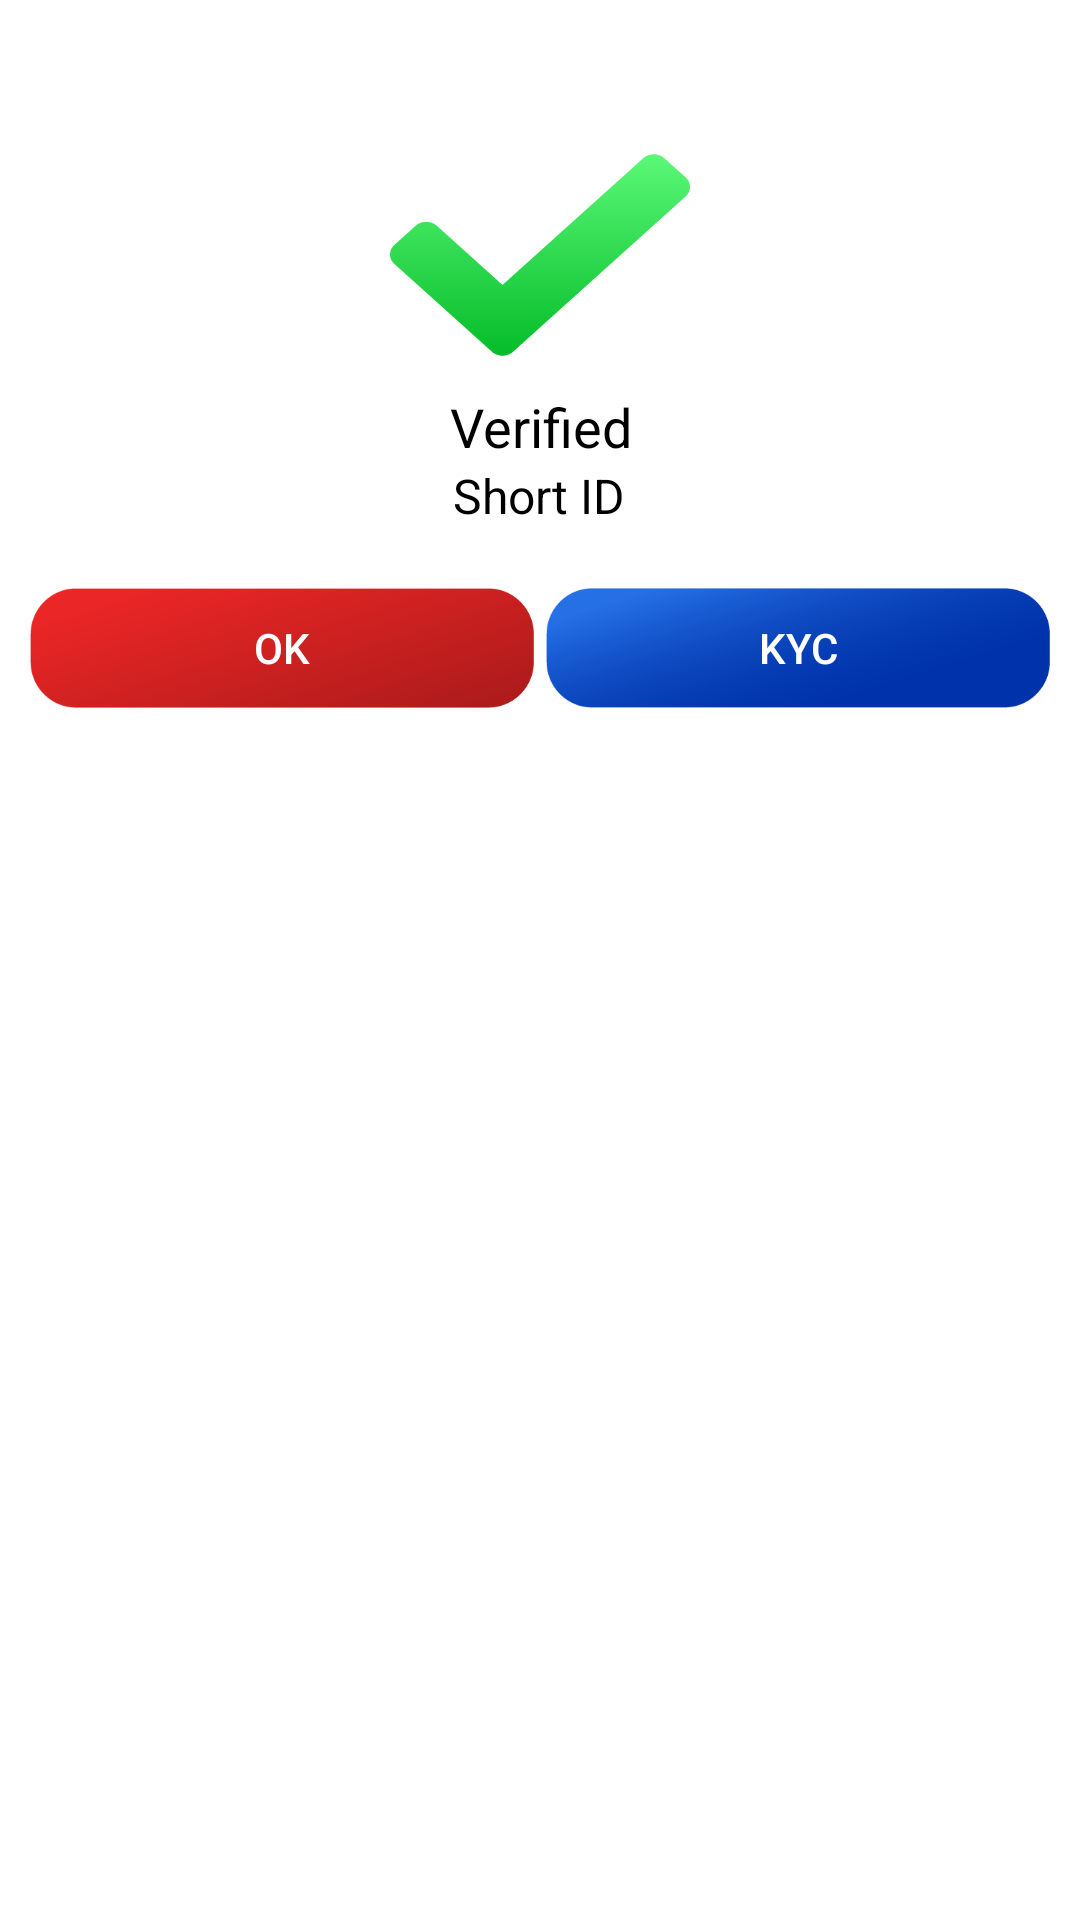

Icons on this 1080*1920 Android screen, each with the point to tap as (x=x, y=y):
check: (x=540, y=255)
